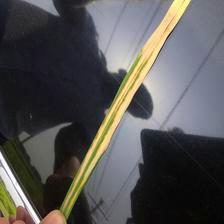2 BacterialBlight: (64, 1, 178, 212)
